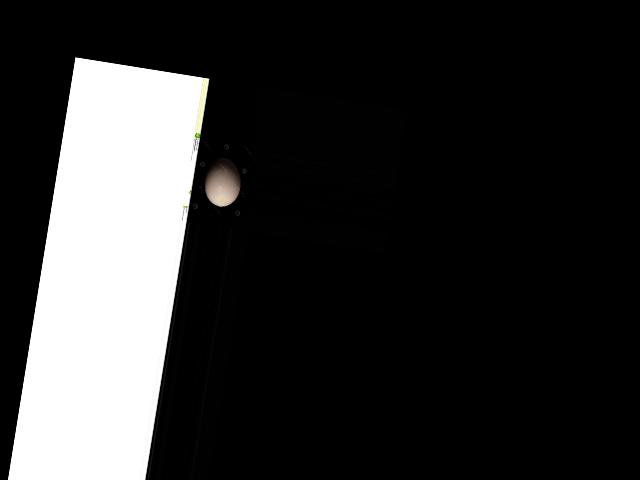egg: (200, 155, 244, 209)
